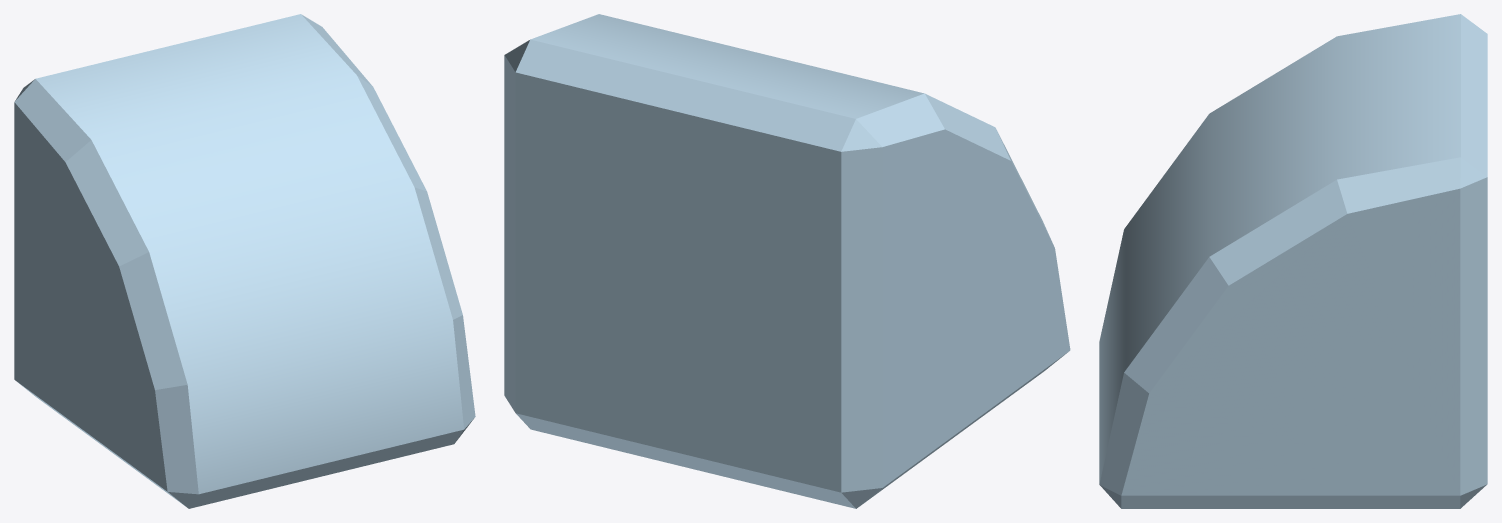
The model's file is R4B_RoundEdge.glb.
3 views of the same model, side by side, from view 1: azimuth 30°, elevation 25°; view 2: azimuth 150°, elevation 25°; view 3: azimuth 270°, elevation 25° (orthographic). The views are drawn at different scales.
Visible parts, largest first — view 1: R4B_RoundEdge; view 2: R4B_RoundEdge; view 3: R4B_RoundEdge.
Part boxes in pixels (x1,y1,x2,y2): R4B_RoundEdge: [14, 14, 475, 508]; R4B_RoundEdge: [504, 14, 1070, 508]; R4B_RoundEdge: [1099, 14, 1487, 508].
Size of the model in its own units: 0.52 by 0.513 by 0.513.
